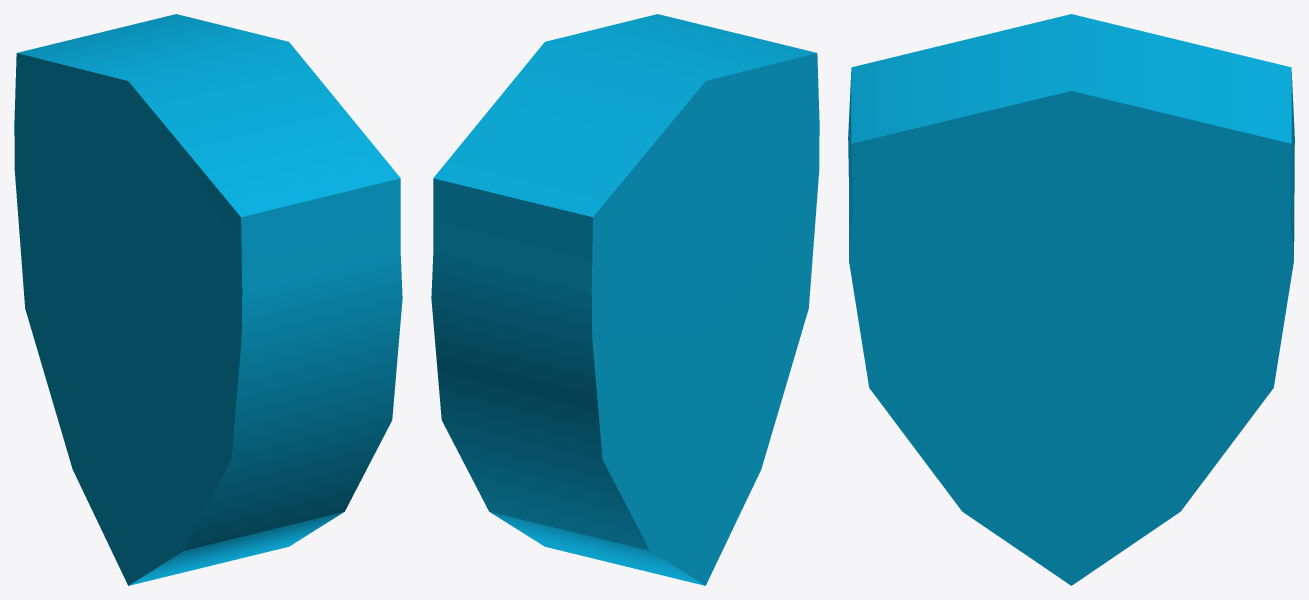
Rendered from shield.fbx.
3 renders of one model, left to right at view 1: azimuth 30°, elevation 25°; view 2: azimuth 150°, elevation 25°; view 3: azimuth 270°, elevation 25°, orthographic.
Visible parts, largest first — view 1: pCube6; view 2: pCube6; view 3: pCube6.
Part boxes in pixels (x1,y1,x2,y2): pCube6: [14, 14, 402, 585]; pCube6: [431, 14, 819, 585]; pCube6: [848, 14, 1294, 585].
Bounding box in the file's own units: 2.8 × 8.41 × 6.88.
